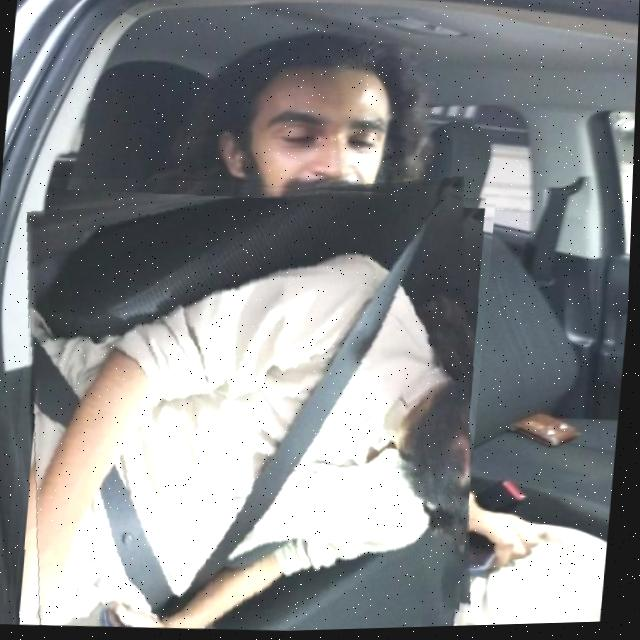seatbelt: (3, 165, 498, 639)
